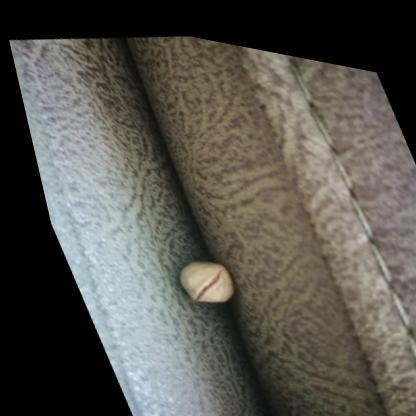pistachio: (182, 257, 233, 310)
